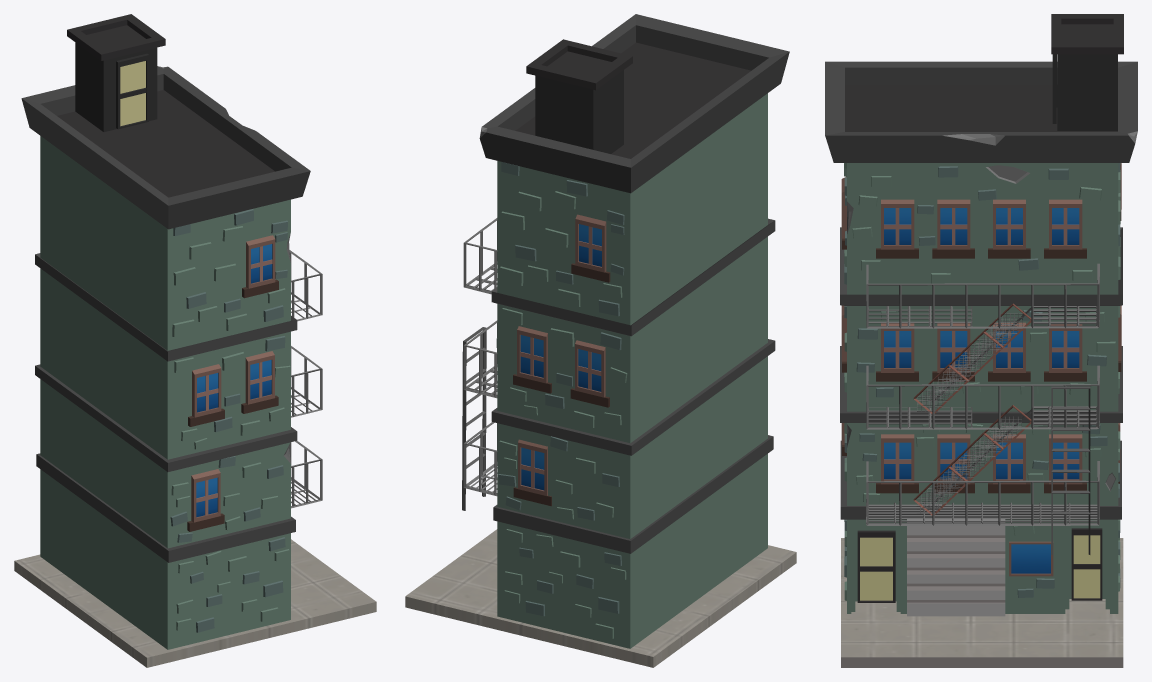
File: House_07.fbx
3 renders of one model, left to right at view 1: azimuth 30°, elevation 25°; view 2: azimuth 150°, elevation 25°; view 3: azimuth 270°, elevation 25°, orthographic. The views are drawn at different scales.
Visible parts, largest first — view 1: House_07; view 2: House_07; view 3: House_07.
Boxes of the visible parts, left/top/right/bottom form: House_07: left=14, top=14, right=376, bottom=667; House_07: left=405, top=14, right=796, bottom=667; House_07: left=825, top=14, right=1137, bottom=667.
Bounding box in the file's own units: 1200 × 2637 × 1330.
